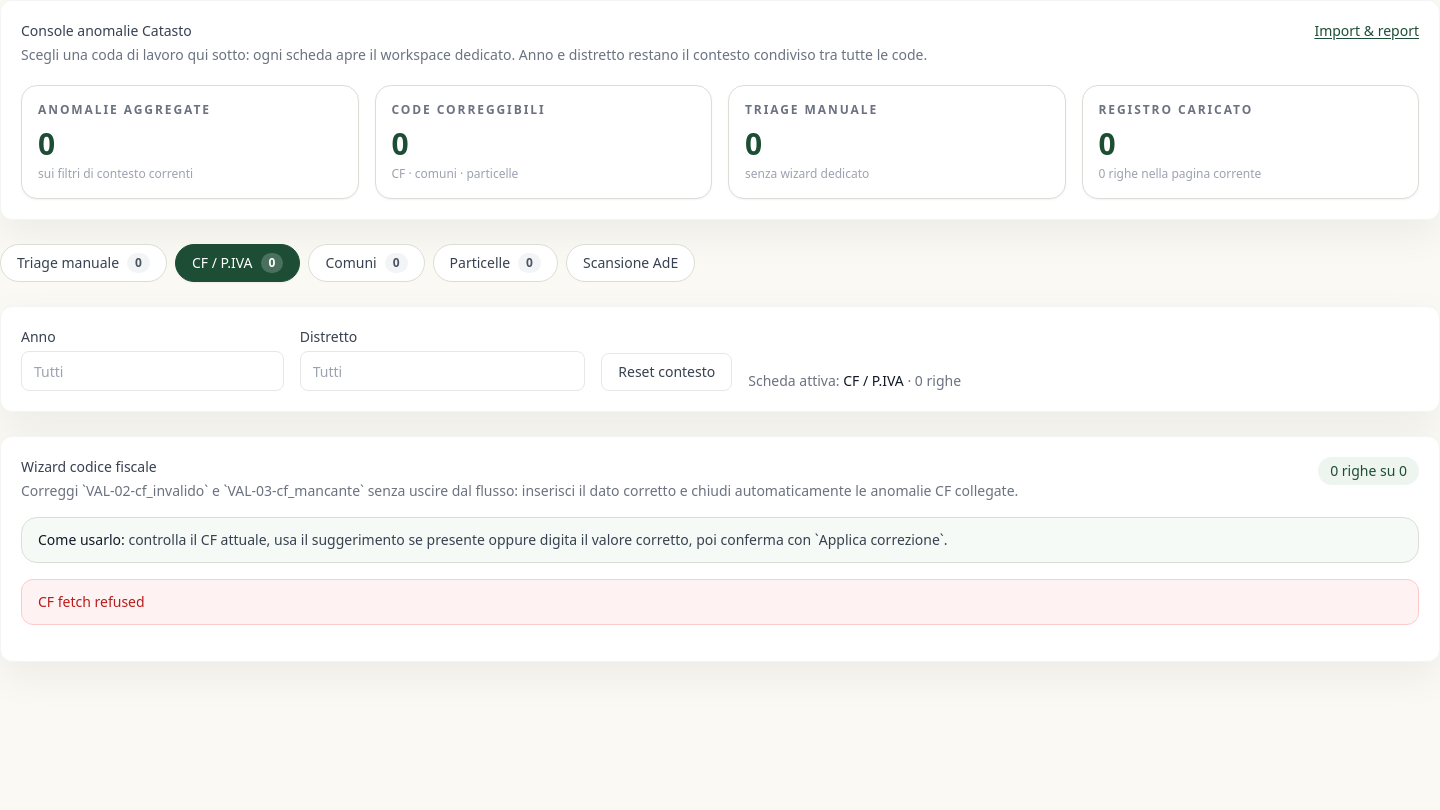
Test: R17 original Catasto CF wizard public transitions › shows load failure {}, releases loading and clears it after a successful reload
Expected: the text "CF fetch refused" is shown, x1=21 y1=579 x2=1419 y2=625
In the field labelled "Distretto": (442, 371) x1=300 y1=351 x2=585 y2=391, type "8"
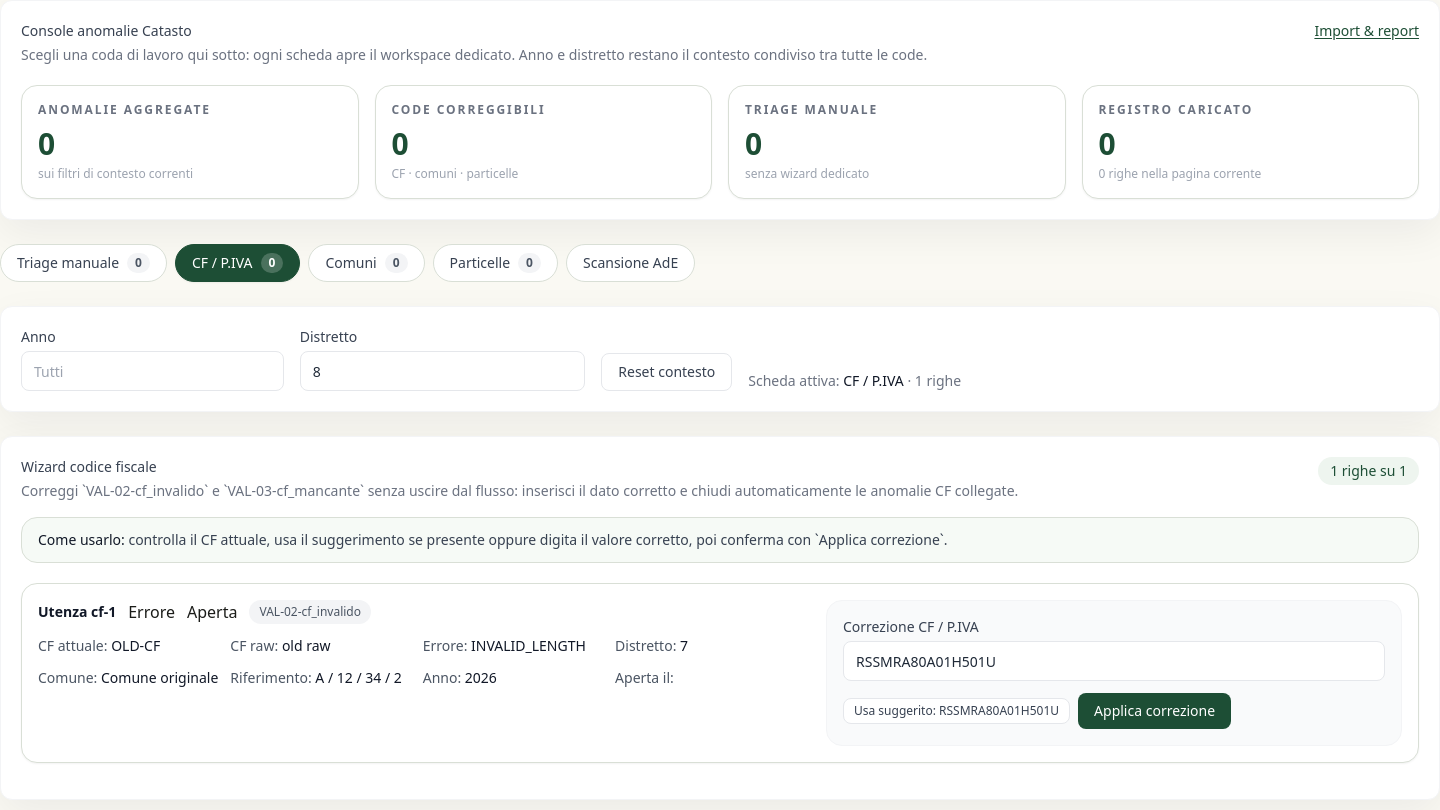
Now the text "Utenza cf-1" is shown, box x1=38 y1=602 x2=116 y2=622
Now the text "CF fetch refused" is gone
Now the button "Applica correzione" is enabled, box x1=1078 y1=693 x2=1231 y2=729
